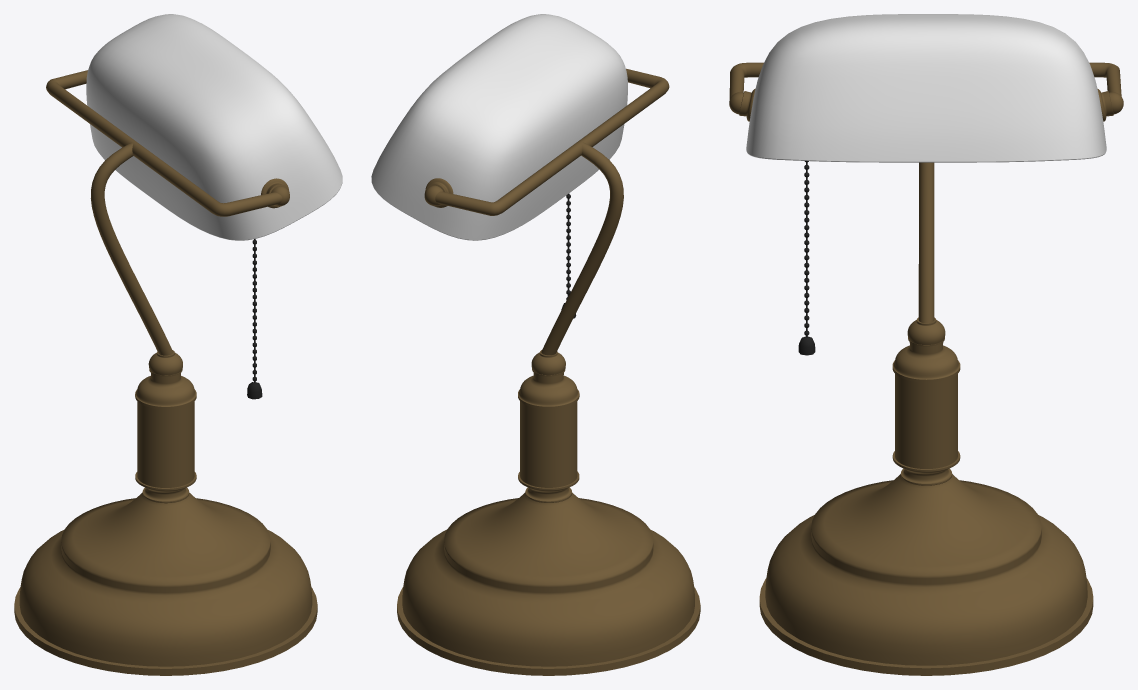
File: BankerLamp.fbx
3 renders of one model, left to right at view 1: azimuth 30°, elevation 25°; view 2: azimuth 150°, elevation 25°; view 3: azimuth 270°, elevation 25°, orthographic. The views are drawn at different scales.
Visible parts, largest first — view 1: Lamp; view 2: Lamp; view 3: Lamp.
Part boxes in pixels (left/top/right/bottom): Lamp: left=14, top=14, right=342, bottom=675; Lamp: left=371, top=14, right=700, bottom=675; Lamp: left=729, top=14, right=1123, bottom=675.
Size of the model in its own units: 185 by 372 by 219.
